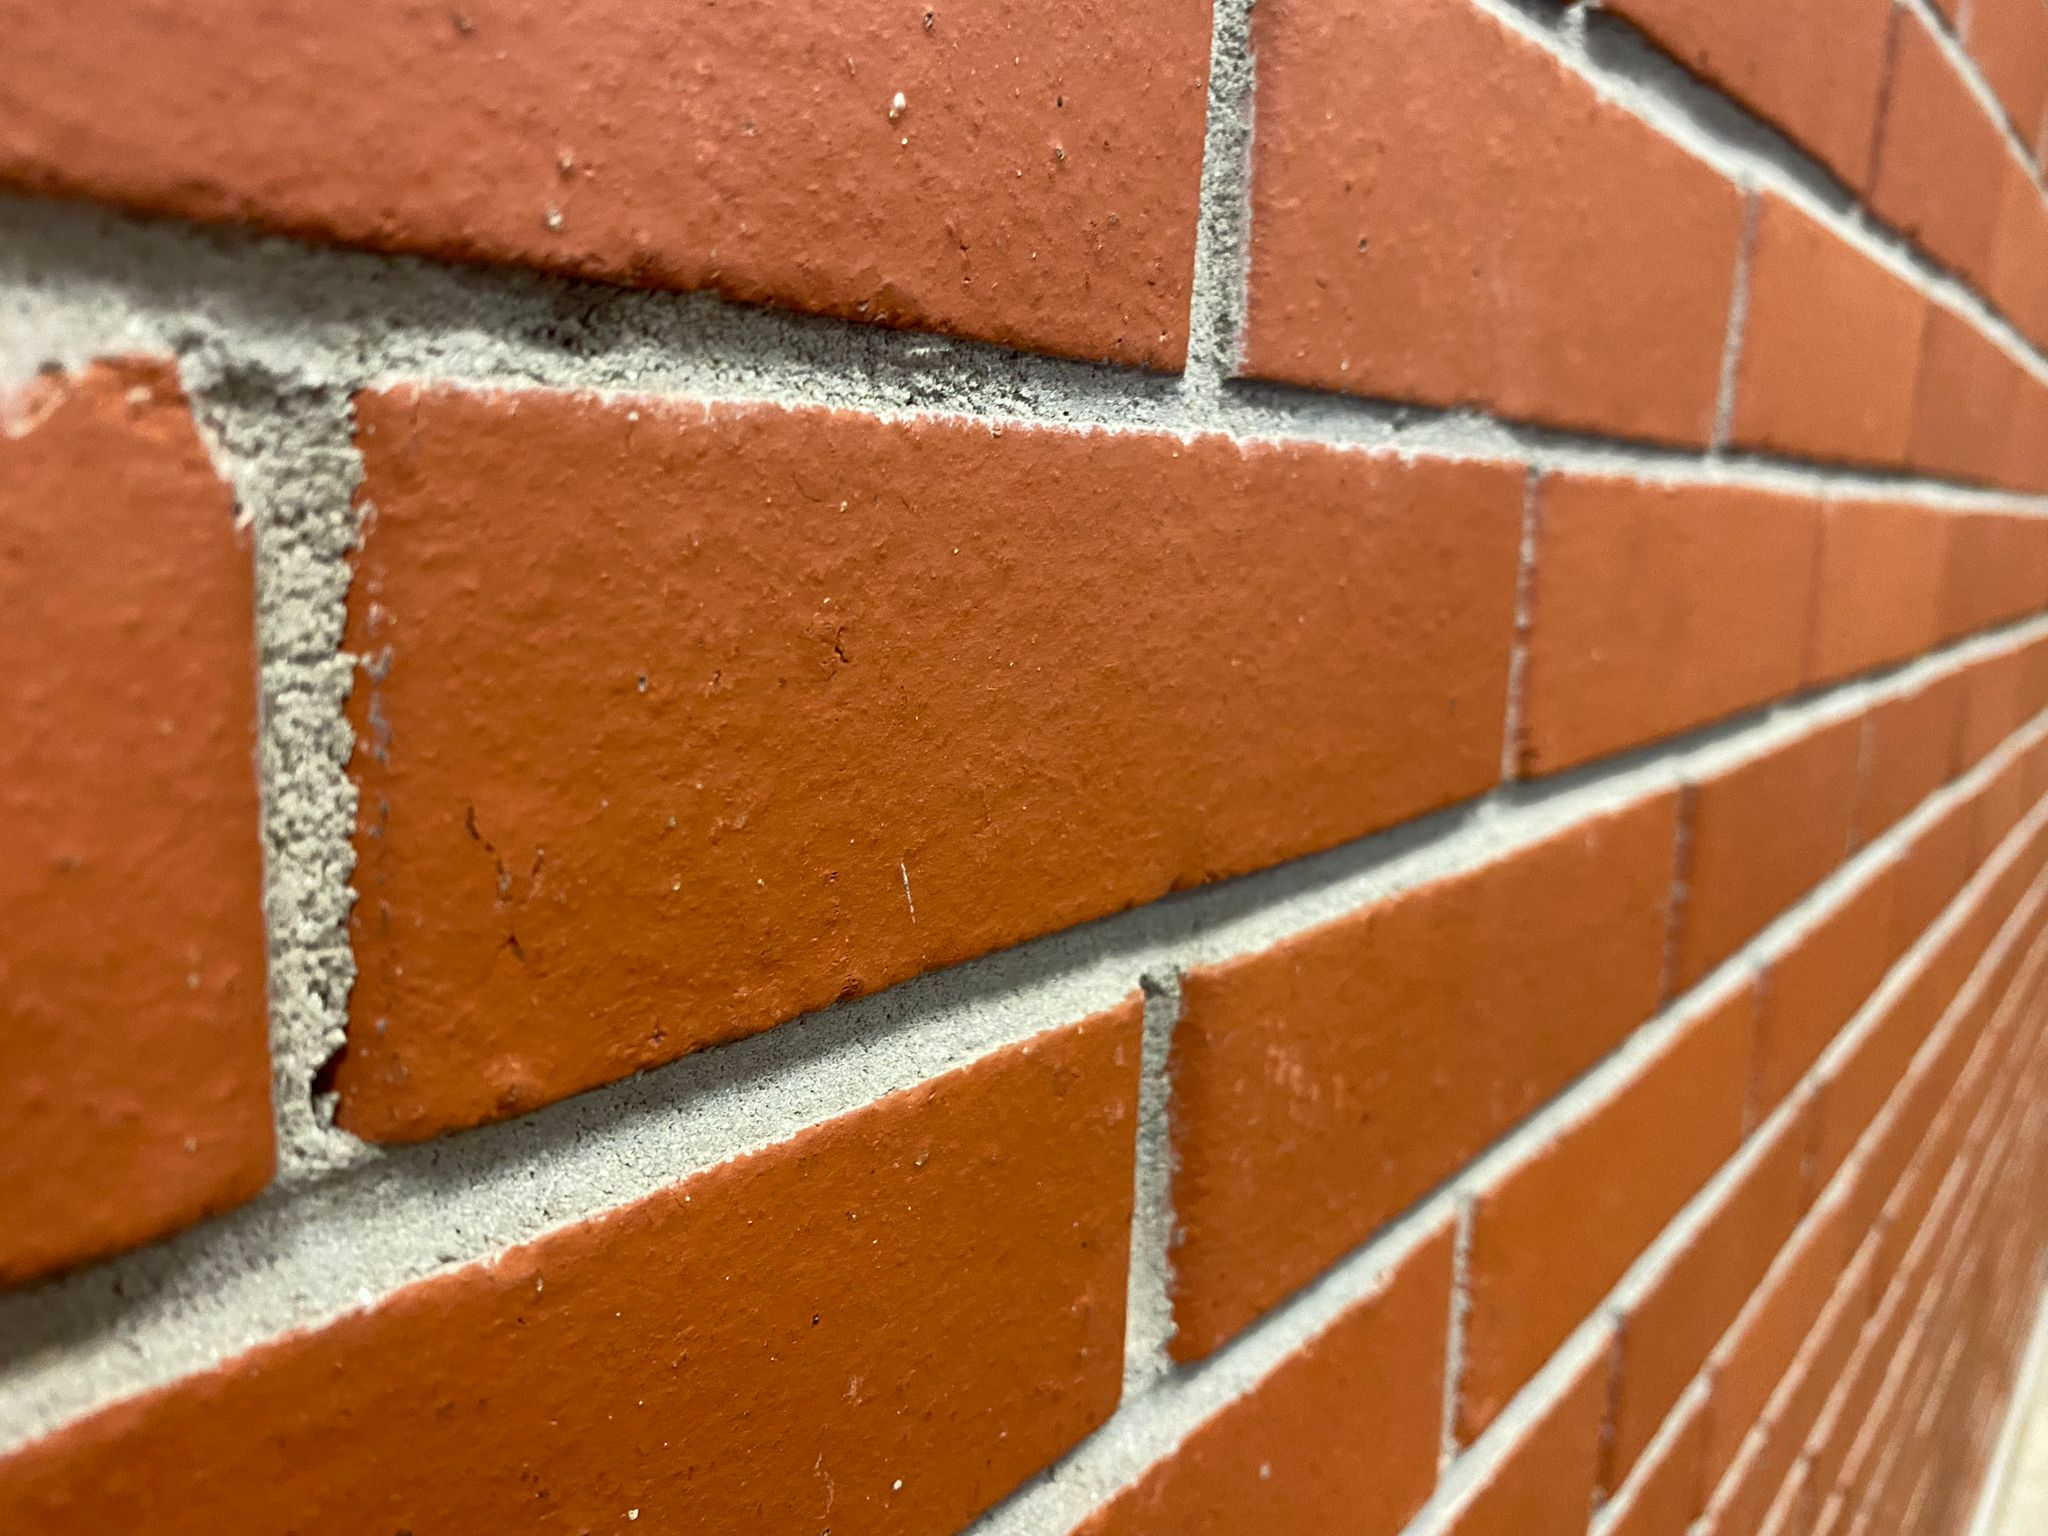redbrick: (314, 358, 1530, 1146), (1121, 766, 1696, 1325), (2, 323, 311, 1350), (1206, 2, 1735, 460)
